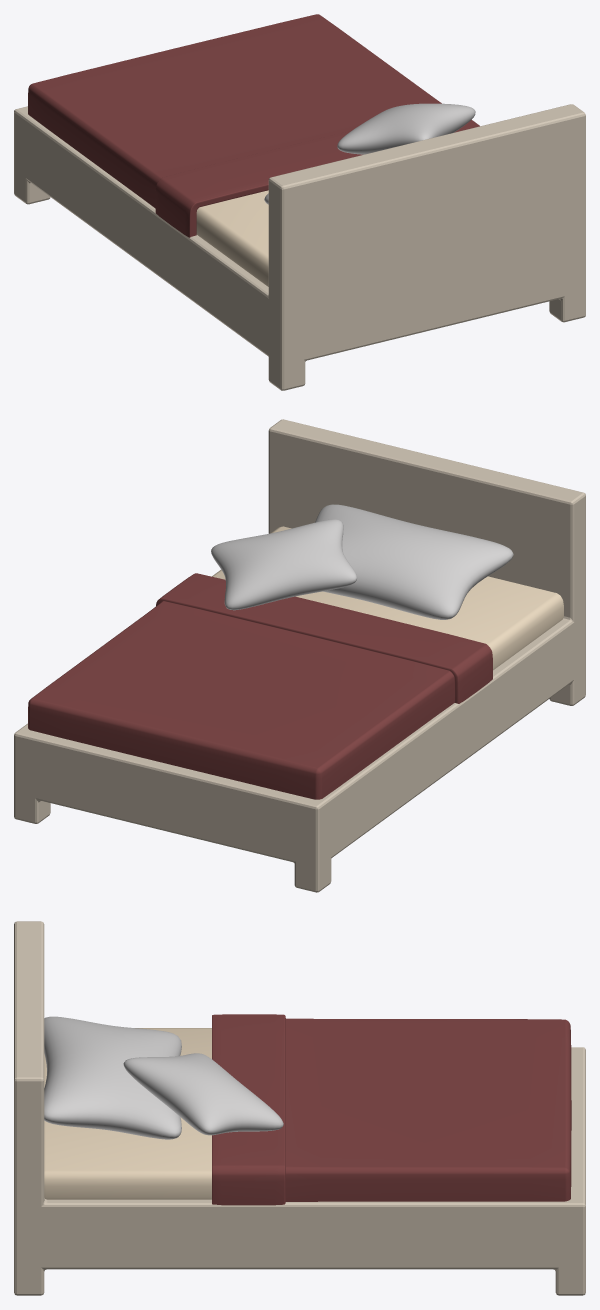
File: Bed.fbx
3 views of the same model, one above another, from view 1: azimuth 30°, elevation 25°; view 2: azimuth 150°, elevation 25°; view 3: azimuth 270°, elevation 25° (orthographic). The views are drawn at different scales.
Parts seen in each view (by area): view 1: pillow4; view 2: pillow4; view 3: pillow4.
Boxes of the visible parts, x1,y1,x2,y2 form: pillow4: [14, 14, 585, 390]; pillow4: [14, 419, 585, 892]; pillow4: [14, 921, 585, 1295].
Bounding box in the file's own units: 421 × 270 × 642.
